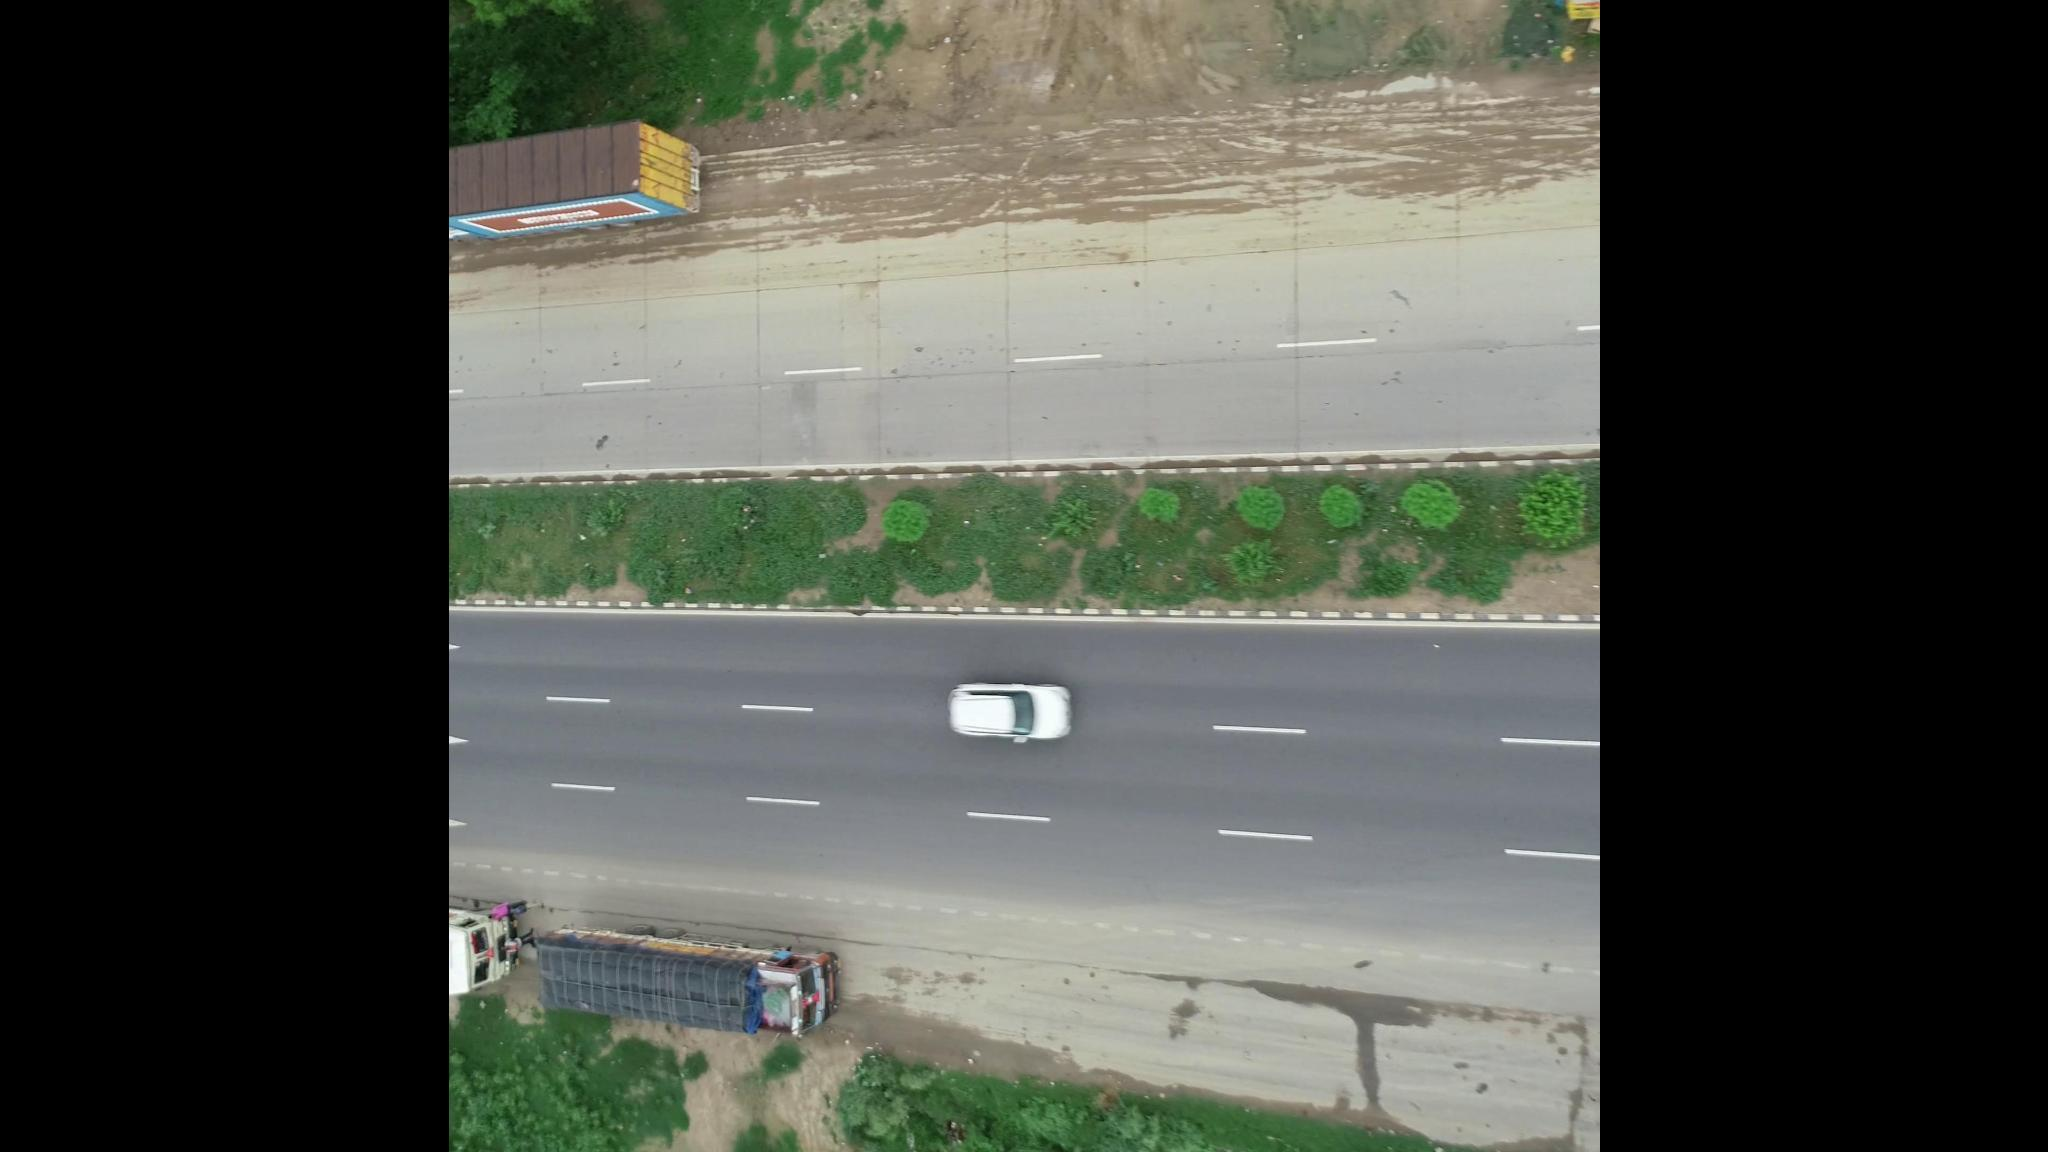Muddy_road: (1162, 84, 1580, 248), (812, 129, 1151, 271)
